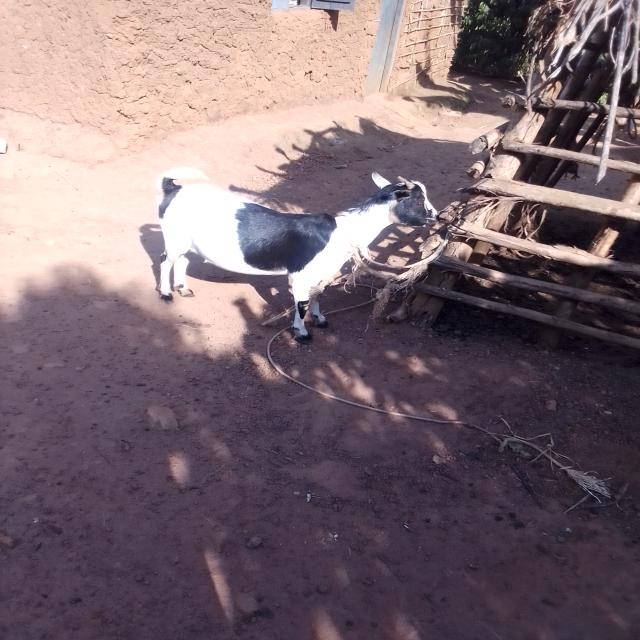goat: (94, 113, 498, 368)
